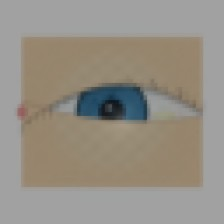pinguecula_lesion: (141, 97, 188, 134)
